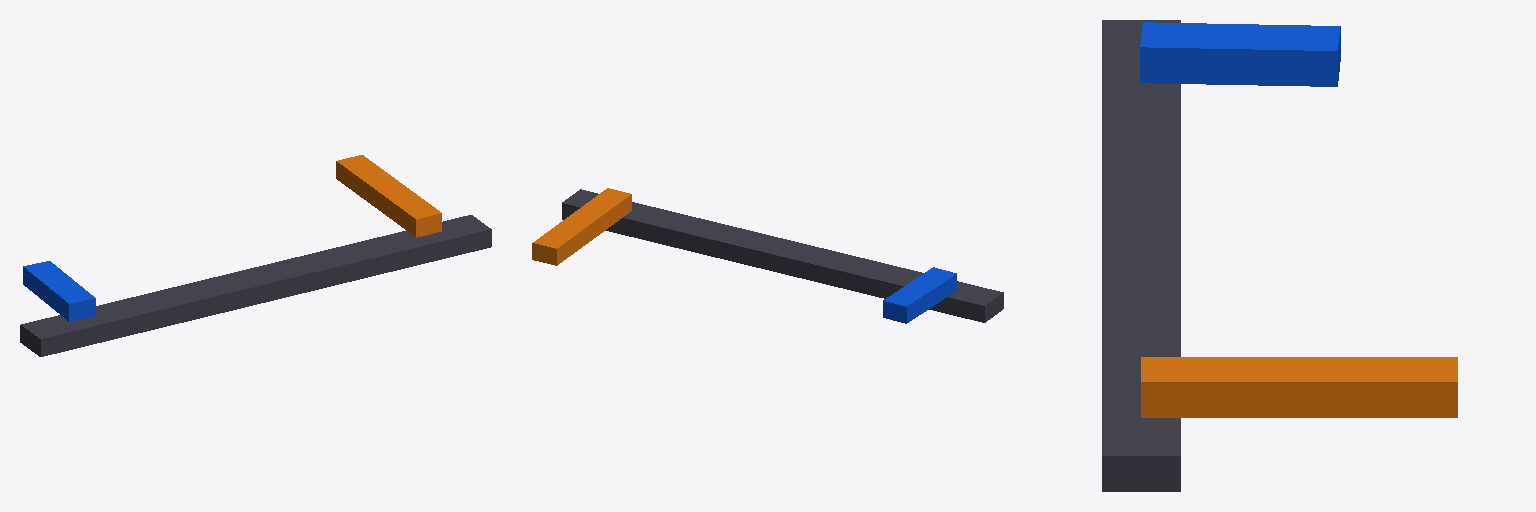
URDF robot description (linkage):
<?xml version="1.0"?>
<!-- A crank-rocker four-bar: the ground runs 0.2 m along +x from the crank's pivot to the rocker's; the
     rocker (0.08 m, the driver, +-0.5 rad about straight up) drives the crank (0.05 m) through a 0.2 m
     coupler. The crank's joint carries tcad:four_bar, so cadgen derives it: at zero the crank points
     87.4 degrees from the ground (the branch the coupler closes on), and its own limits hold the whole
     derived range (-58.3 to 47.5 degrees). The joint origins turn each link's +x along the link at
     zero, so a box along +x draws it where the linkage has it. -->
<robot name="linkage" xmlns:tcad="https://text-to-cad.dev/urdf">
  <link name="ground"><visual><origin xyz="0.1 0 -0.01"/><geometry><box size="0.26 0.02 0.01"/></geometry><material name="m0.30.30.351"><color rgba="0.3 0.3 0.35 1"/></material></visual></link>
  <link name="rocker"><visual name="rocker_arm"><origin xyz="0.04 0 0"/><geometry><box size="0.08 0.015 0.01"/></geometry><material name="m0.90.50.11"><color rgba="0.9 0.5 0.1 1"/></material></visual></link>
  <link name="crank"><visual><origin xyz="0.025 0 0"/><geometry><box size="0.05 0.015 0.01"/></geometry><material name="m0.10.40.91"><color rgba="0.1 0.4 0.9 1"/></material></visual></link>
  <joint name="output_joint" type="revolute"><parent link="ground"/><child link="rocker"/><origin xyz="0.2 0 0" rpy="0 0 1.5707963267948966"/><axis xyz="0 0 1"/><limit lower="-0.5" upper="0.5" effort="1" velocity="1"/></joint>
  <joint name="input_joint" type="revolute"><parent link="ground"/><child link="crank"/><origin xyz="0 0 0" rpy="0 0 1.5253680280265103"/><axis xyz="0 0 1"/><limit lower="-1.5" upper="1.5" effort="1" velocity="1"/>
    <tcad:four_bar driver="output_joint" input_length="0.05" ground_length="0.2" output_length="0.08" coupler_length="0.2" input_zero="1.5253680280265103" output_zero="1.5707963267948966"/>
  </joint>
</robot>

--- Facts derived from the render (not from the file) ---
3 views of the same robot in one strip: view 1: azimuth 30°, elevation 25°; view 2: azimuth 150°, elevation 25°; view 3: azimuth 270°, elevation 25° (orthographic).
Model linkage with 3 links and 2 joints (2 revolute), rooted at ground, posed every joint at zero.
Links seen in each view (by area): view 1: ground, rocker, crank; view 2: ground, rocker, crank; view 3: ground, rocker, crank.
Boxes of the visible links, x1,y1,x2,y2 form: ground: (20, 215, 491, 356); rocker: (336, 155, 441, 237); crank: (23, 261, 95, 321); ground: (562, 189, 1003, 322); rocker: (532, 188, 631, 265); crank: (883, 267, 956, 323); ground: (1102, 20, 1180, 491); rocker: (1141, 357, 1457, 417); crank: (1140, 22, 1340, 86).
Size in the robot's own frame: 0.26 by 0.09 by 0.02 metres.
Geometry: primitives only (box / cylinder / sphere), no mesh files.
